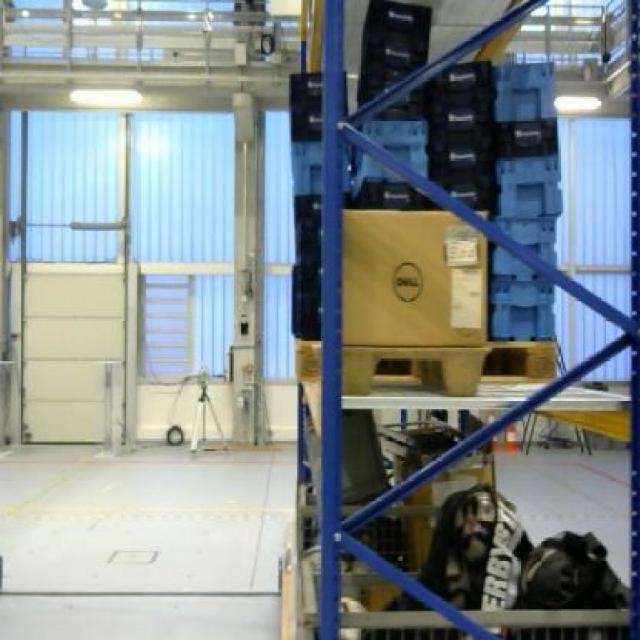box: (341, 208, 488, 348)
